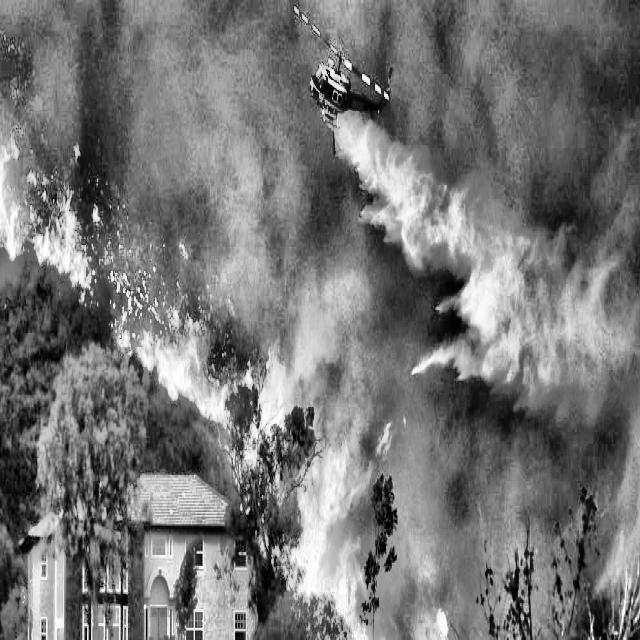fire: (0, 119, 399, 640)
